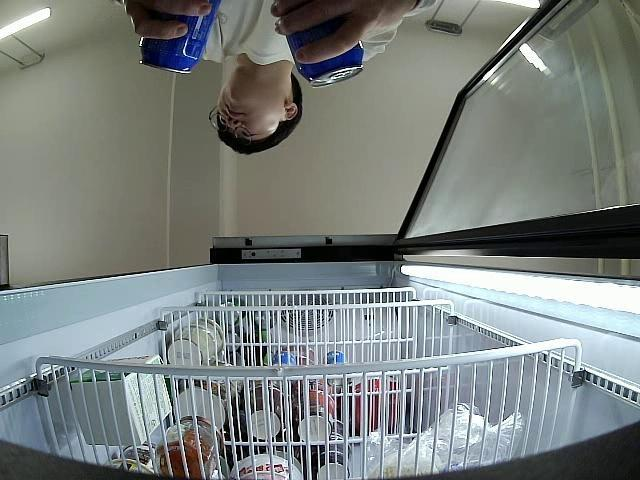13_pocariSweat: (278, 0, 365, 89), (140, 0, 220, 75)
